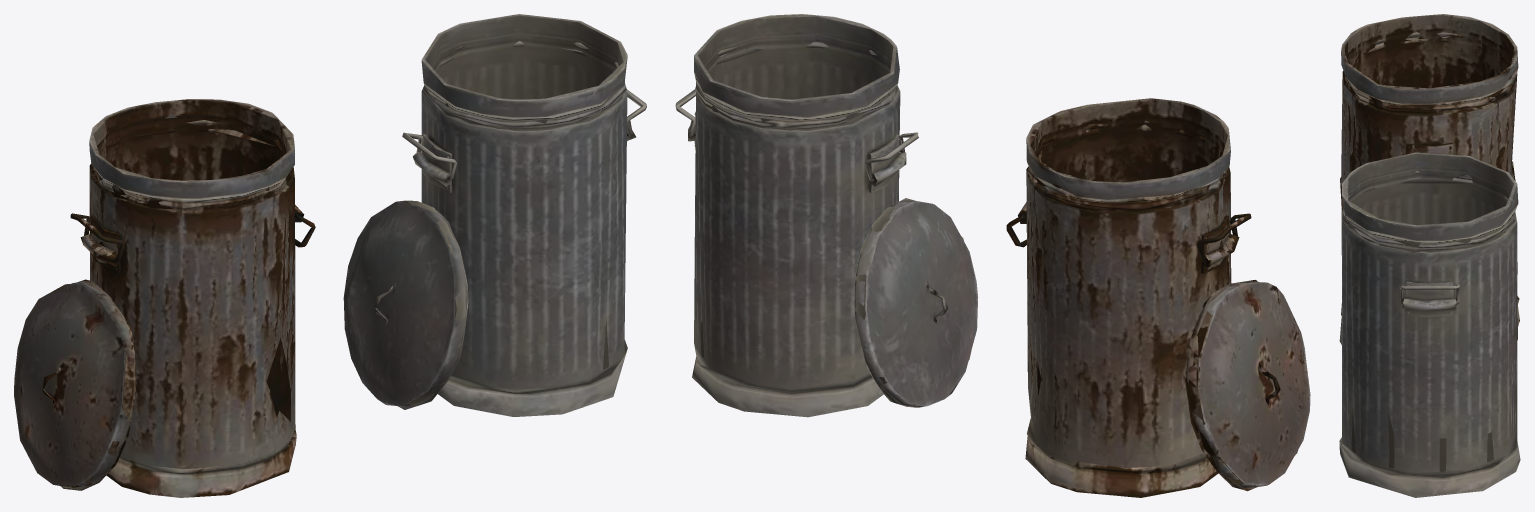
The model's file is metal_trash_can.glb.
3 views of the same model, side by side, from view 1: azimuth 30°, elevation 25°; view 2: azimuth 150°, elevation 25°; view 3: azimuth 270°, elevation 25° (orthographic). The views are drawn at different scales.
Parts seen in each view (by area): view 1: metal_trash_can_rust, metal_trash_can, metal_trash_can_lid, metal_trash_can_rust_lid; view 2: metal_trash_can, metal_trash_can_rust, metal_trash_can_rust_lid, metal_trash_can_lid; view 3: metal_trash_can, metal_trash_can_rust, metal_trash_can_handle_right.
Boxes of the visible parts, left/top/right/bottom form: metal_trash_can_rust: left=80, top=99, right=304, bottom=497; metal_trash_can: left=413, top=14, right=636, bottom=416; metal_trash_can_lid: left=343, top=200, right=468, bottom=409; metal_trash_can_rust_lid: left=14, top=279, right=135, bottom=490; metal_trash_can: left=688, top=14, right=906, bottom=417; metal_trash_can_rust: left=1018, top=98, right=1239, bottom=497; metal_trash_can_rust_lid: left=1184, top=280, right=1310, bottom=491; metal_trash_can_lid: left=853, top=198, right=978, bottom=407; metal_trash_can: left=1339, top=152, right=1520, bottom=497; metal_trash_can_rust: left=1341, top=14, right=1519, bottom=325; metal_trash_can_handle_right: left=1399, top=284, right=1459, bottom=304.
Bounding box in the file's own units: 1.78 × 0.9062 × 0.5497.
2 materials, 2 textured.
